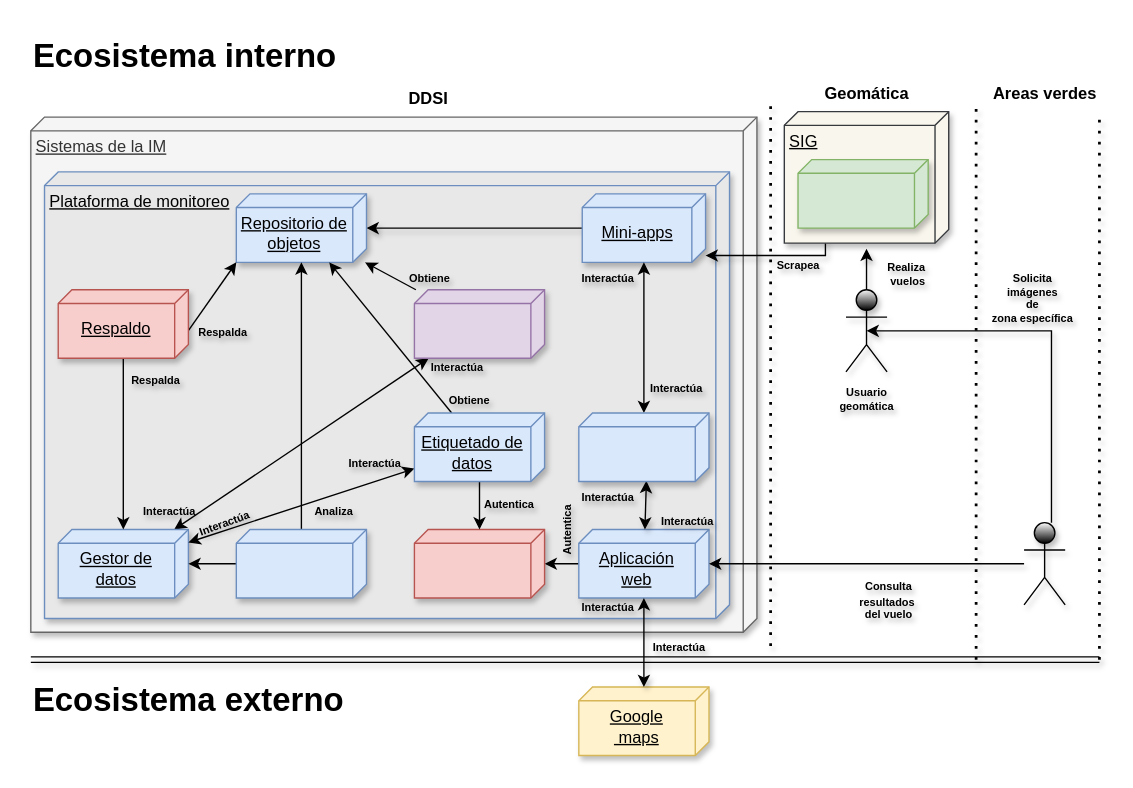
The diagram is 1133 pixels wide and 788 high, and some of its shapes have lost their labels. Each missing label, with the centre of its shape:
Calidad de datos: (x=302, y=565)
IA: (x=480, y=325)
Información Georreferencia: (x=644, y=448)
MonteviMap: (x=863, y=195)
Seguridad: (x=480, y=565)
Usuario áreas verdes: (x=1045, y=565)
